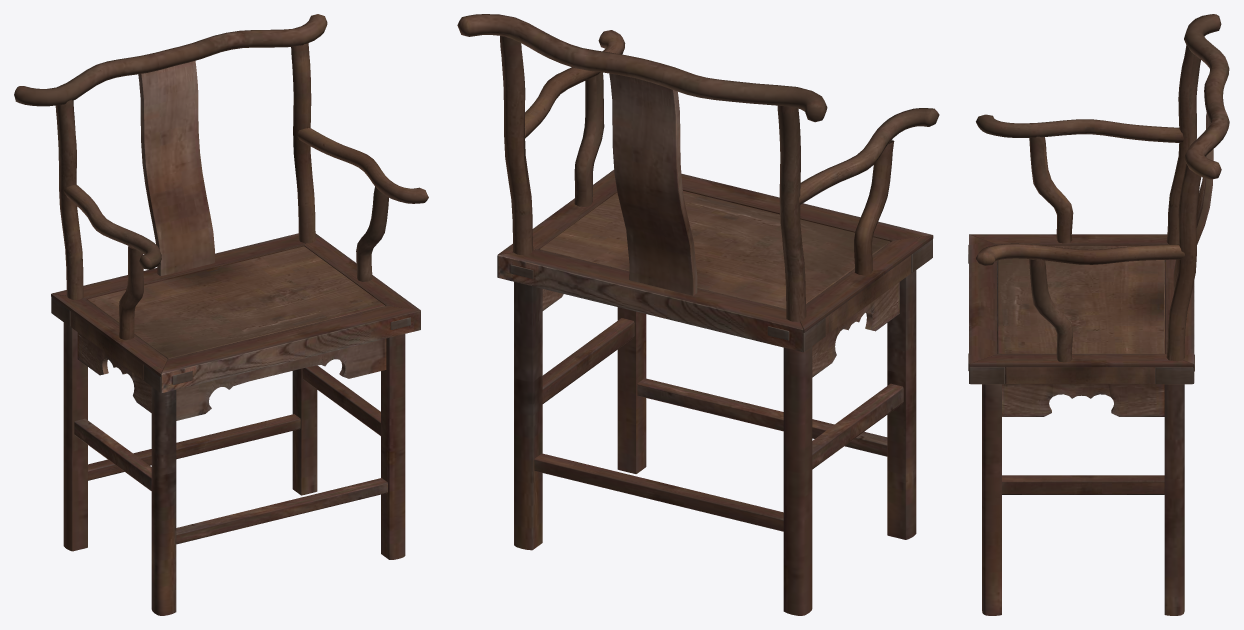
The model's file is ming_chair.glb.
3 renders of one model, left to right at view 1: azimuth 30°, elevation 25°; view 2: azimuth 150°, elevation 25°; view 3: azimuth 270°, elevation 25°, orthographic. The views are drawn at different scales.
Visible parts, largest first — view 1: SDH_003_PLY_SDH_003_0; view 2: SDH_003_PLY_SDH_003_0; view 3: SDH_003_PLY_SDH_003_0.
Part boxes in pixels (box(x1,y1,x2,y2)): SDH_003_PLY_SDH_003_0: box(14, 14, 428, 615); SDH_003_PLY_SDH_003_0: box(457, 14, 939, 615); SDH_003_PLY_SDH_003_0: box(968, 14, 1229, 615).
Size of the model in its own units: 0.7883 by 1.1 by 0.5607.
Materials: 1 (1 with a texture image).
